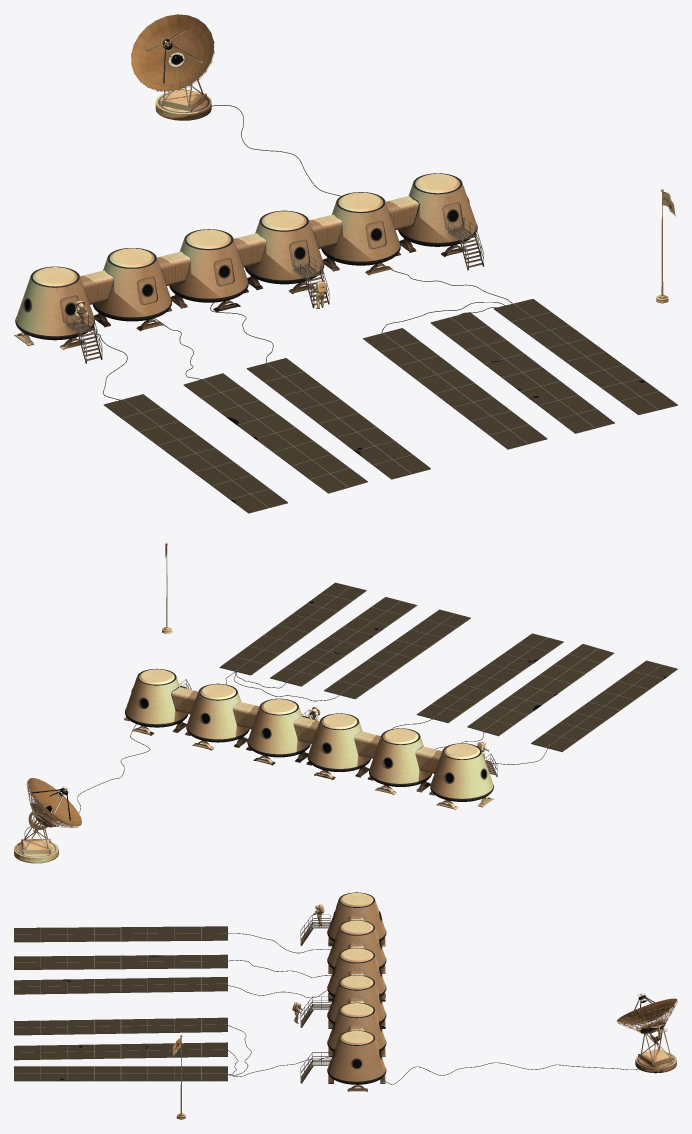
3 views of the same model, one above another, from view 1: azimuth 30°, elevation 25°; view 2: azimuth 150°, elevation 25°; view 3: azimuth 270°, elevation 25° (orthographic). The views are drawn at different scales.
Visible parts, largest first — view 1: Object_14, Object_13, Object_31, Object_18, Object_20, Object_26, Object_22, Object_24, Object_28, Object_15, Object_19, Object_21 (+4 smaller); view 2: Object_14, Object_13, Object_31, Object_18, Object_26, Object_20, Object_24, Object_22, Object_28, Object_17, Object_27, Object_19 (+3 smaller); view 3: Object_13, Object_14, Object_31, Object_28, Object_24, Object_26, Object_18, Object_20, Object_22, Object_15, Object_27, Object_23 (+4 smaller).
Boxes of the visible parts, x1=… form: Object_14: x1=103, y1=358, x2=677, y2=513; Object_13: x1=89, y1=105, x2=677, y2=449; Object_31: x1=131, y1=14, x2=214, y2=120; Object_18: x1=15, y1=266, x2=113, y2=340; Object_20: x1=92, y1=248, x2=190, y2=321; Object_26: x1=321, y1=192, x2=418, y2=265; Object_22: x1=169, y1=229, x2=266, y2=302; Object_24: x1=244, y1=210, x2=342, y2=284; Object_28: x1=398, y1=173, x2=477, y2=246; Object_15: x1=66, y1=218, x2=484, y2=363; Object_19: x1=94, y1=248, x2=172, y2=331; Object_21: x1=170, y1=229, x2=248, y2=311; Object_14: x1=321, y1=582, x2=677, y2=752; Object_13: x1=24, y1=586, x2=547, y2=836; Object_31: x1=14, y1=778, x2=81, y2=863; Object_18: x1=415, y1=743, x2=493, y2=801; Object_26: x1=171, y1=683, x2=249, y2=742; Object_20: x1=354, y1=728, x2=432, y2=786; Object_24: x1=232, y1=698, x2=310, y2=757; Object_22: x1=293, y1=713, x2=370, y2=771; Object_28: x1=125, y1=668, x2=188, y2=727; Object_17: x1=429, y1=743, x2=493, y2=809; Object_27: x1=124, y1=669, x2=186, y2=735; Object_19: x1=367, y1=728, x2=430, y2=794; Object_13: x1=14, y1=933, x2=643, y2=1084; Object_14: x1=14, y1=926, x2=227, y2=1080; Object_31: x1=617, y1=993, x2=677, y2=1073; Object_28: x1=327, y1=1030, x2=386, y2=1084; Object_24: x1=327, y1=975, x2=386, y2=1023; Object_26: x1=327, y1=1002, x2=386, y2=1051; Object_18: x1=327, y1=892, x2=386, y2=941; Object_20: x1=327, y1=920, x2=386, y2=968; Object_22: x1=327, y1=948, x2=386, y2=996; Object_15: x1=300, y1=914, x2=330, y2=1083; Object_27: x1=328, y1=1030, x2=385, y2=1091; Object_23: x1=328, y1=975, x2=385, y2=1028.
Bounding box in the file's own units: 33.58 × 7 × 48.85.
Materials: 19 (19 with a texture image).
